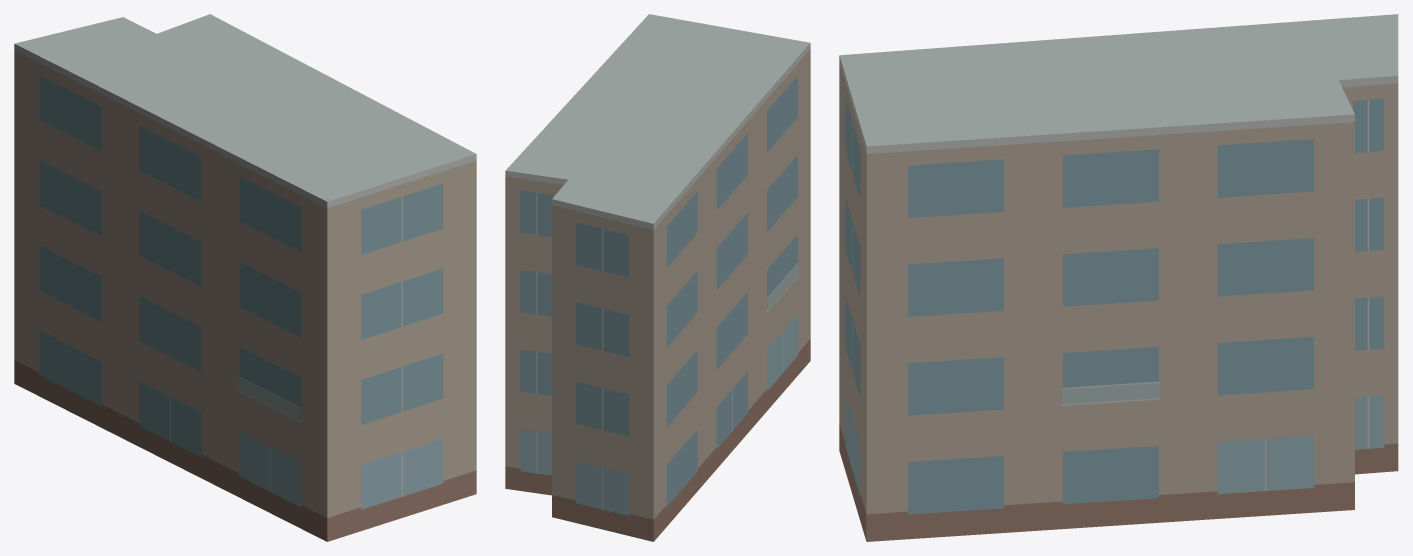
The model's file is survey-upis-32495454.glb.
The picture shows the model from 3 angles, left to right: view 1: azimuth 30°, elevation 25°; view 2: azimuth 150°, elevation 25°; view 3: azimuth 270°, elevation 25°; orthographic projection. The views are drawn at different scales.
Visible parts, largest first — view 1: survey-upis-32495454.tmp; view 2: survey-upis-32495454.tmp; view 3: survey-upis-32495454.tmp.
Part boxes in pixels (left/top/right/bottom): survey-upis-32495454.tmp: left=14, top=14, right=476, bottom=541; survey-upis-32495454.tmp: left=505, top=14, right=810, bottom=541; survey-upis-32495454.tmp: left=839, top=14, right=1398, bottom=541.
Size of the model in its own units: 9.21 by 12.8 by 16.42.
